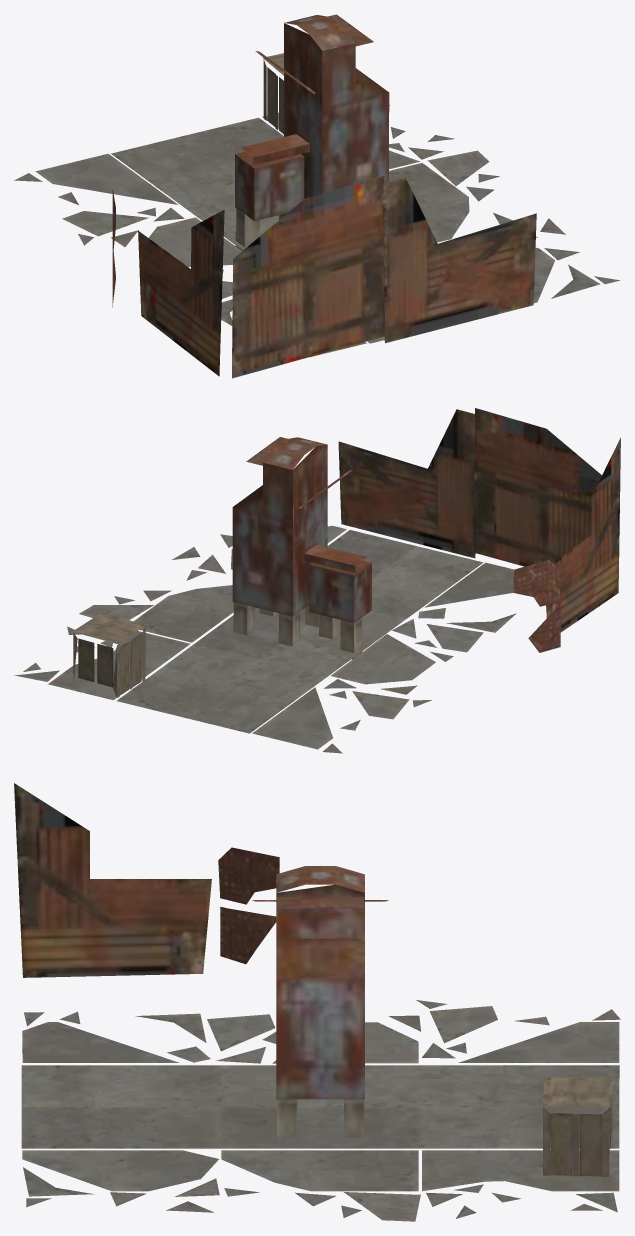
Rendered from power_sub_small_2.glb.
3 views of the same model, one above another, from view 1: azimuth 30°, elevation 25°; view 2: azimuth 150°, elevation 25°; view 3: azimuth 270°, elevation 25° (orthographic). The views are drawn at different scales.
Visible parts, largest first — view 1: power_sub_small_2; view 2: power_sub_small_2; view 3: power_sub_small_2.
Boxes of the visible parts, <box> form: power_sub_small_2: <box>14,14,620,378</box>; power_sub_small_2: <box>14,408,620,753</box>; power_sub_small_2: <box>14,783,620,1221</box>.
Size of the model in its own units: 8.97 by 4.02 by 9.1.
Materials: 1 (1 with a texture image).
